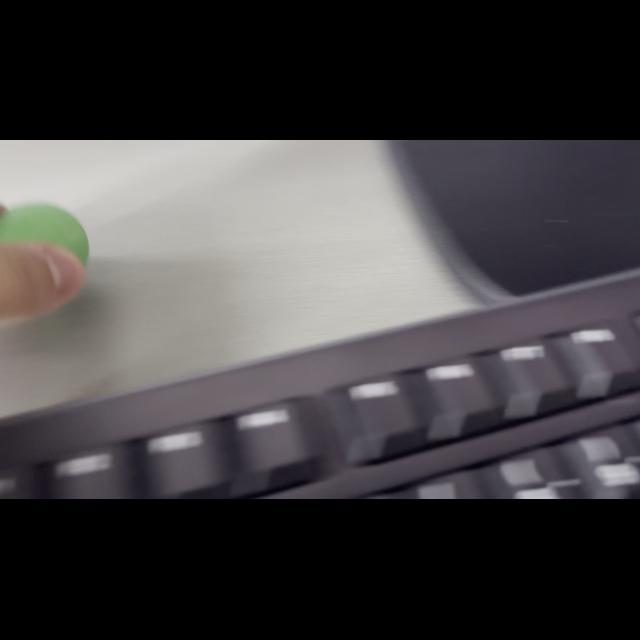objects: (1, 199, 91, 271)
